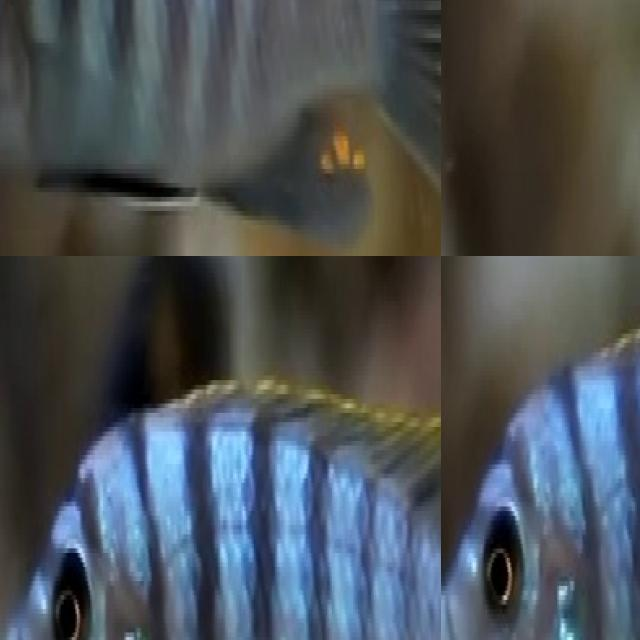fish: (0, 366, 441, 640), (0, 0, 441, 256), (441, 256, 640, 640)
